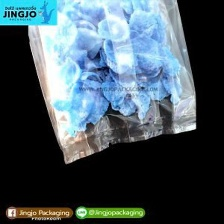snack: (19, 0, 204, 168)
